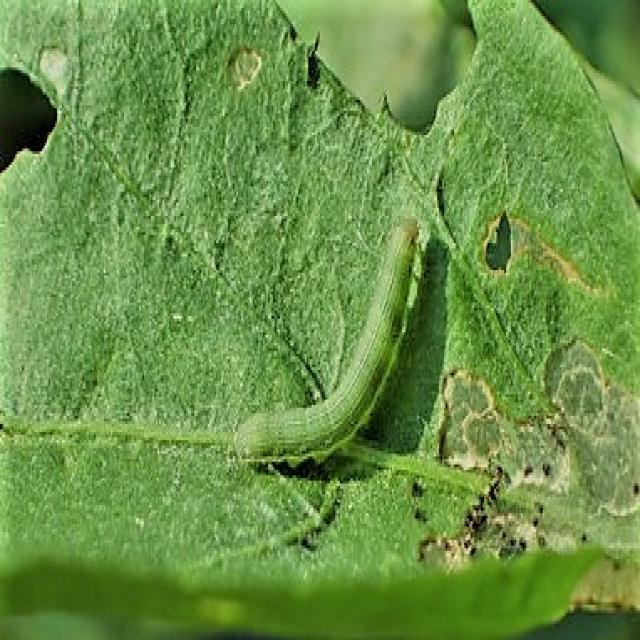Army worm: (2, 3, 637, 610)
Cotton Ball Rot: (478, 205, 516, 281), (225, 41, 267, 97)
